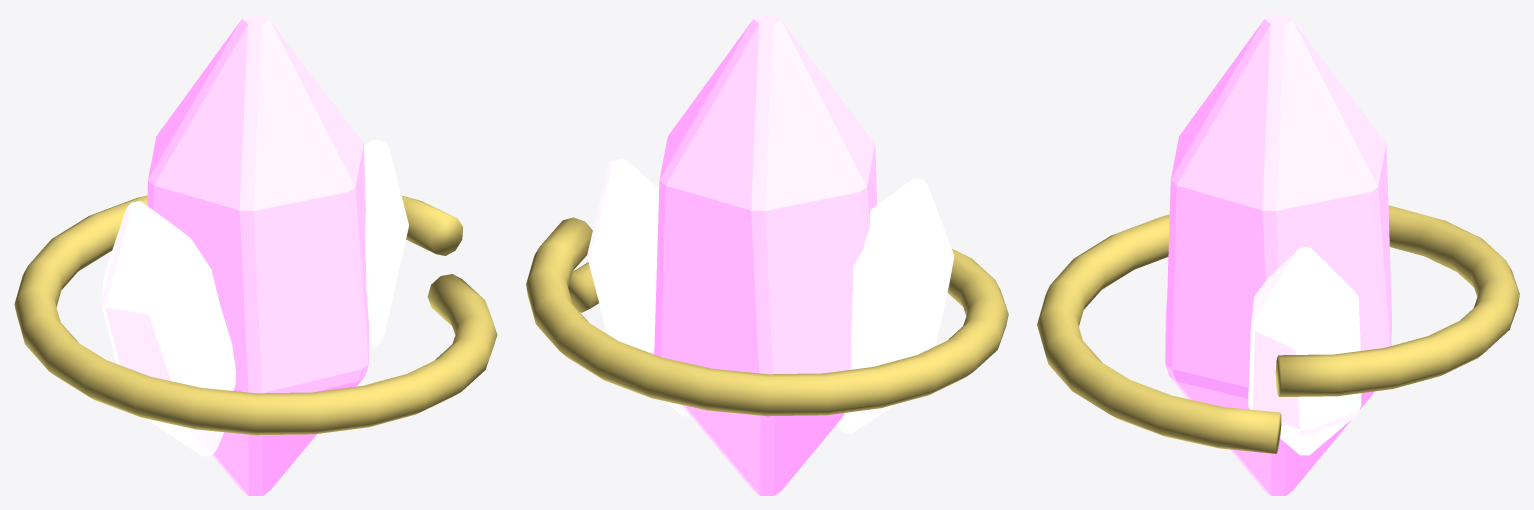
File: cristal_de_salto.glb
The picture shows the model from 3 angles, left to right: view 1: azimuth 30°, elevation 25°; view 2: azimuth 150°, elevation 25°; view 3: azimuth 270°, elevation 25°; orthographic projection.
Parts seen in each view (by area): view 1: CristalDeSaltoMesh; view 2: CristalDeSaltoMesh; view 3: CristalDeSaltoMesh.
Part boxes in pixels (box(x1,y1,x2,y2)): CristalDeSaltoMesh: box(14, 14, 497, 495); CristalDeSaltoMesh: box(526, 14, 1008, 495); CristalDeSaltoMesh: box(1037, 14, 1519, 495).
Bounding box in the file's own units: 0.9194 × 0.9903 × 0.9194.
